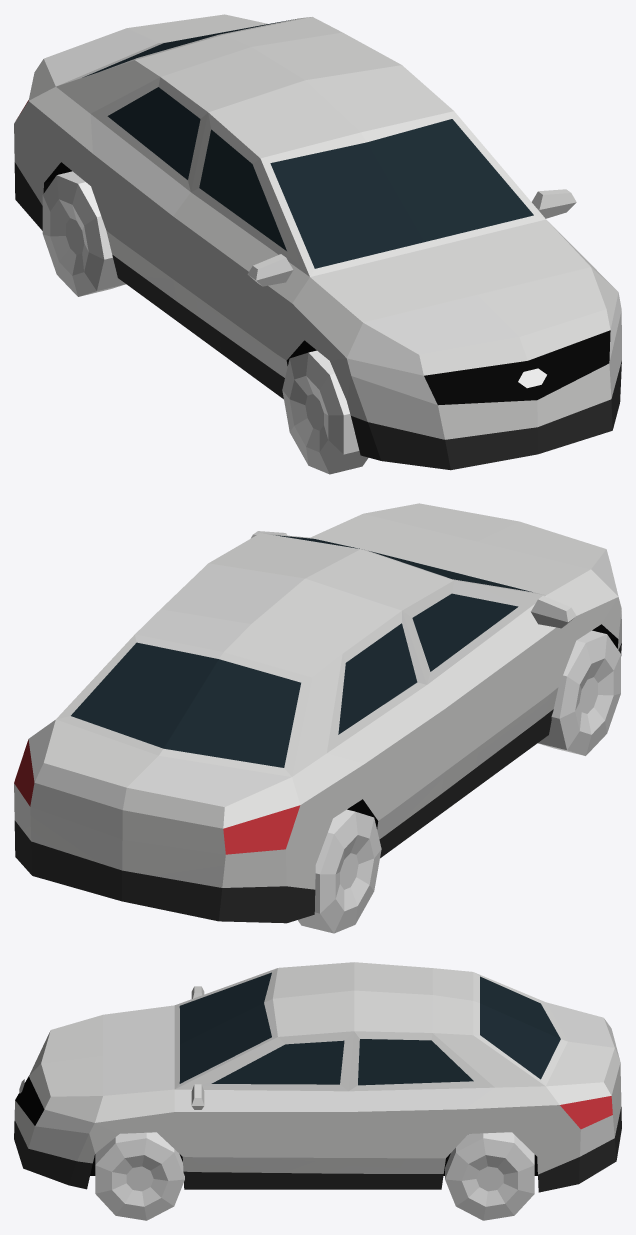
The model's file is car.glb.
3 views of the same model, one above another, from view 1: azimuth 30°, elevation 25°; view 2: azimuth 150°, elevation 25°; view 3: azimuth 270°, elevation 25° (orthographic). The views are drawn at different scales.
Visible parts, largest first — view 1: car-passenger-base, car-passenger-wheel_FR, car-passenger-wheel_BR; view 2: car-passenger-base, car-passenger-wheel_FR, car-passenger-wheel_BR; view 3: car-passenger-base, car-passenger-wheel_BL, car-passenger-wheel_FL.
Part boxes in pixels (bbox=[...]): car-passenger-base: bbox=[14, 14, 621, 470]; car-passenger-wheel_FR: bbox=[282, 350, 368, 474]; car-passenger-wheel_BR: bbox=[42, 171, 125, 296]; car-passenger-base: bbox=[14, 503, 621, 923]; car-passenger-wheel_FR: bbox=[538, 630, 620, 755]; car-passenger-wheel_BR: bbox=[298, 809, 381, 933]; car-passenger-base: bbox=[14, 962, 621, 1192]; car-passenger-wheel_BL: bbox=[445, 1132, 534, 1220]; car-passenger-wheel_FL: bbox=[95, 1132, 184, 1220].
Bounding box in the file's own units: 2.1 × 1.55 × 4.72.
Materials: 2 (1 with a texture image).
